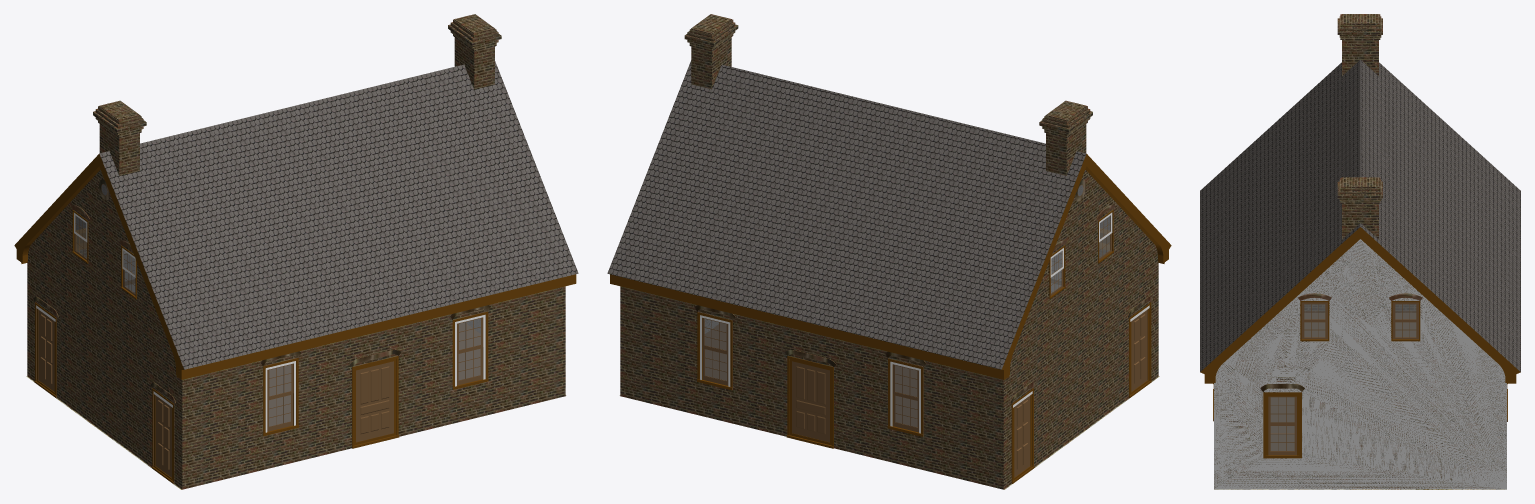
Rendered from brick_house.dae.
3 views of the same model, side by side, from view 1: azimuth 30°, elevation 25°; view 2: azimuth 150°, elevation 25°; view 3: azimuth 270°, elevation 25° (orthographic). The views are drawn at different scales.
Parts seen in each view (by area): view 1: group_0 (×14); view 2: group_0 (×14); view 3: group_0 (×12).
Boxes of the visible parts, x1,y1,x2,y2 form: group_0 (×14): [14, 37, 578, 489]; group_0 (×14): [607, 37, 1171, 489]; group_0 (×12): [1200, 14, 1520, 489].
Size of the model in its own units: 402 by 300 by 311.
